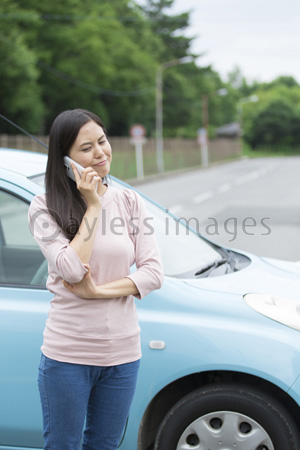phone: (66, 157, 104, 195)
talk: (65, 128, 112, 208)
